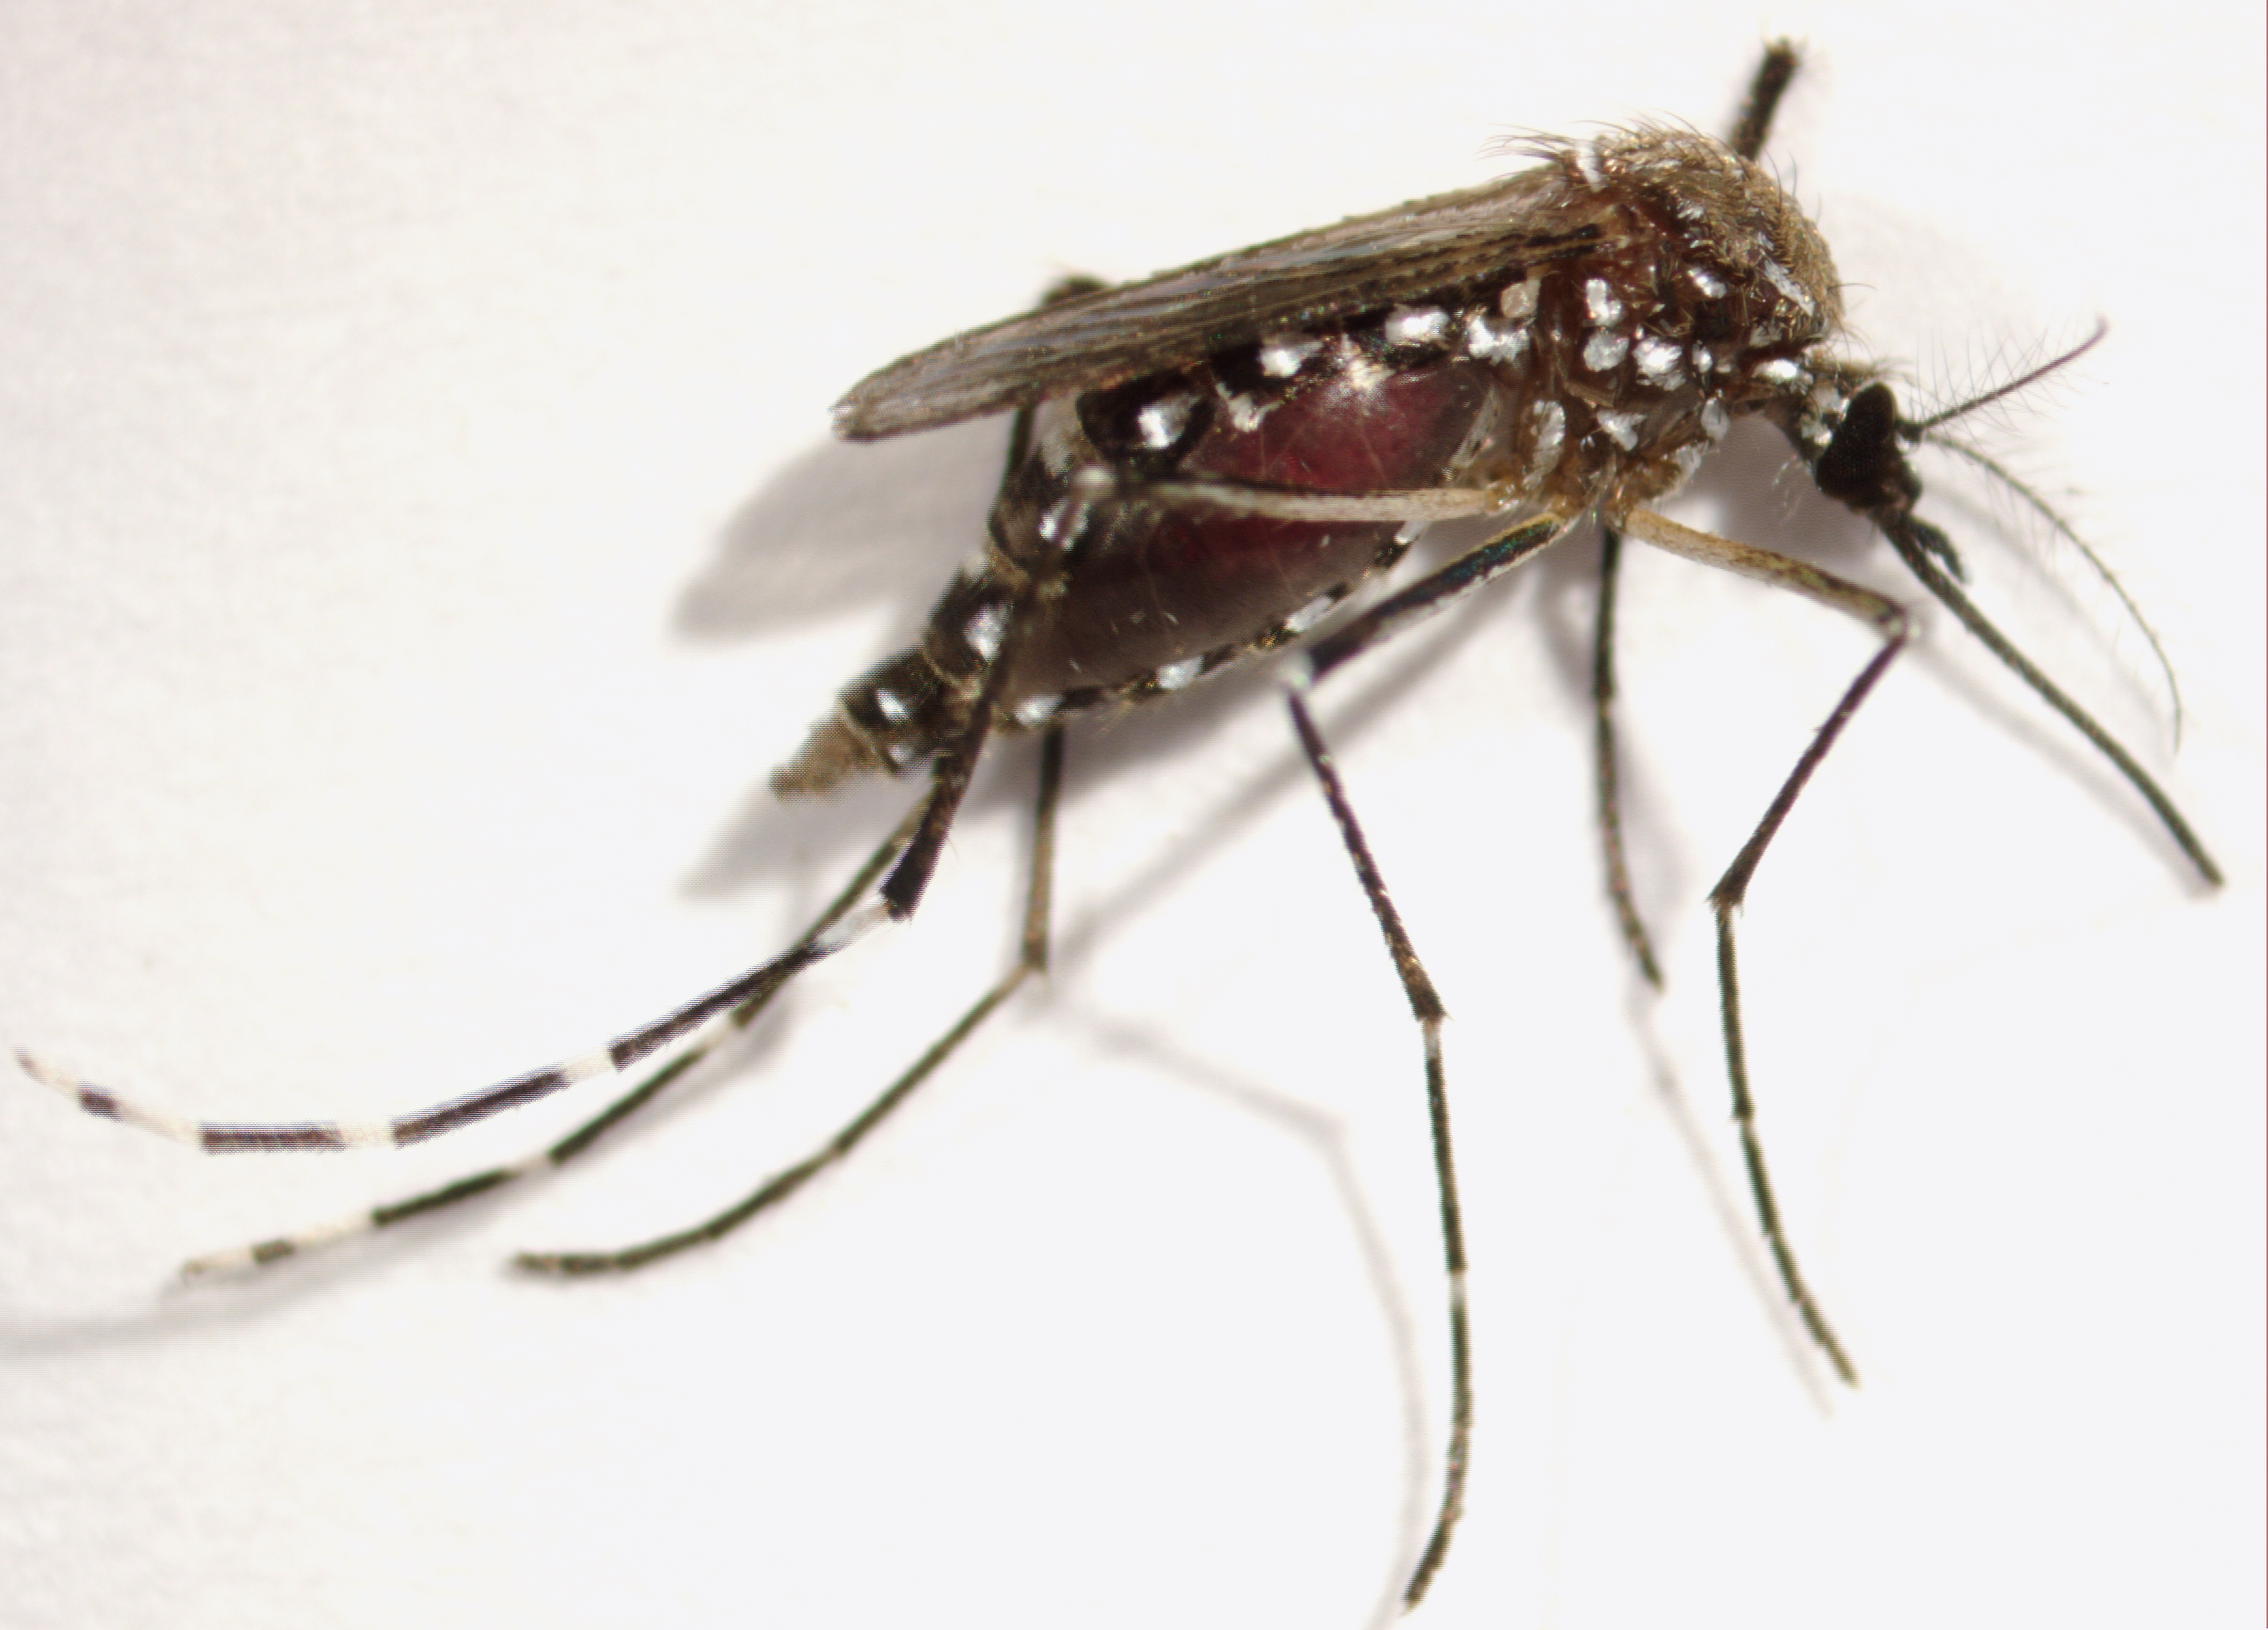dengue_mosquito: (312, 37, 2217, 1392)
